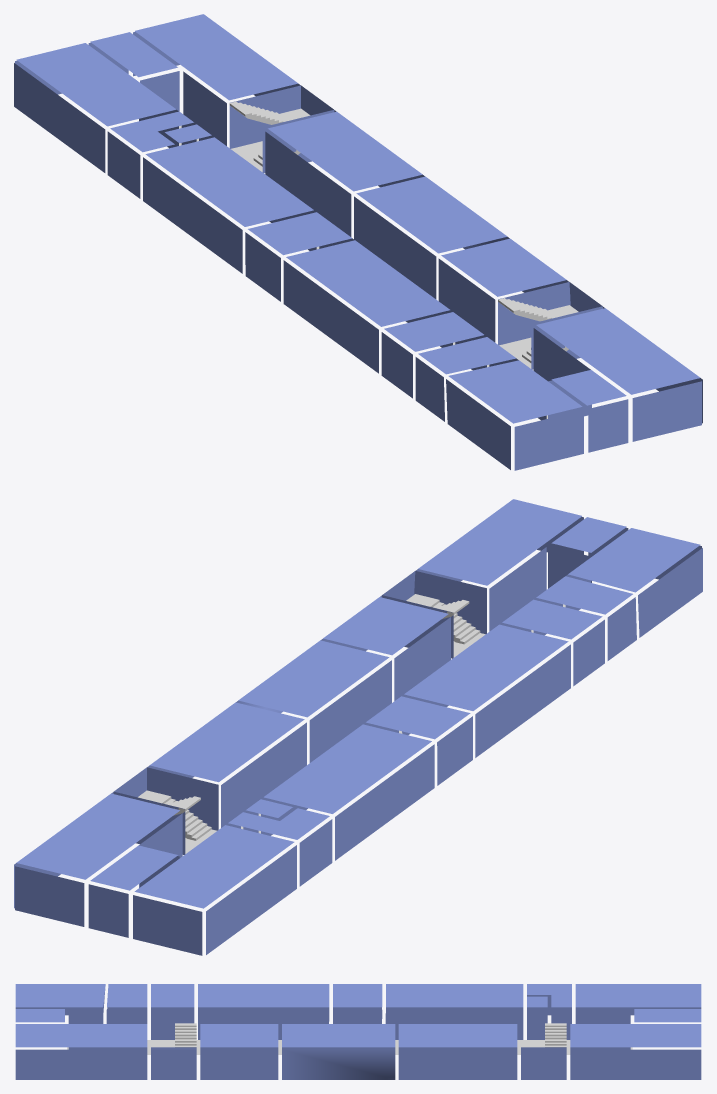
Rendered from dstu_8.glb.
The picture shows the model from 3 angles, top to bottom: view 1: azimuth 30°, elevation 25°; view 2: azimuth 150°, elevation 25°; view 3: azimuth 270°, elevation 25°; orthographic projection. The views are drawn at different scales.
Visible parts, largest first — view 1: 8, L8L; view 2: 8, L8L; view 3: 8, L8L.
Part boxes in pixels (x1,y1,x2,y2): 8: (14,14,702,470); L8L: (229,101,578,362); 8: (14,499,702,955); L8L: (138,594,480,840); 8: (15,984,701,1079); L8L: (175,1023,566,1047).
Size of the model in its own units: 13 by 3 by 58.64.
